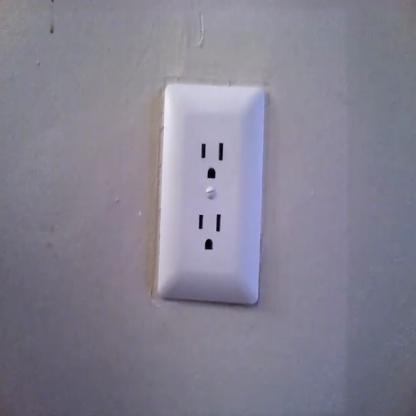OUTLET: (159, 84, 260, 306)
